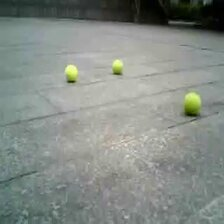tennis: (183, 92, 201, 115), (65, 66, 77, 81), (112, 60, 124, 73)
